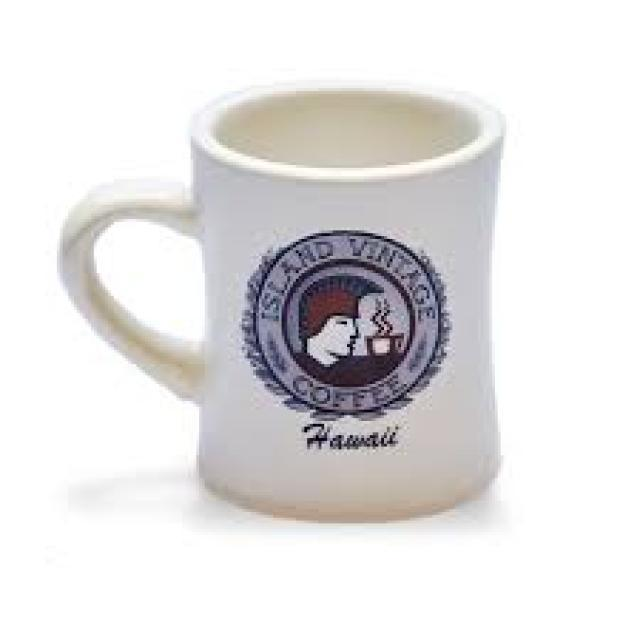taza: (58, 76, 508, 526)
